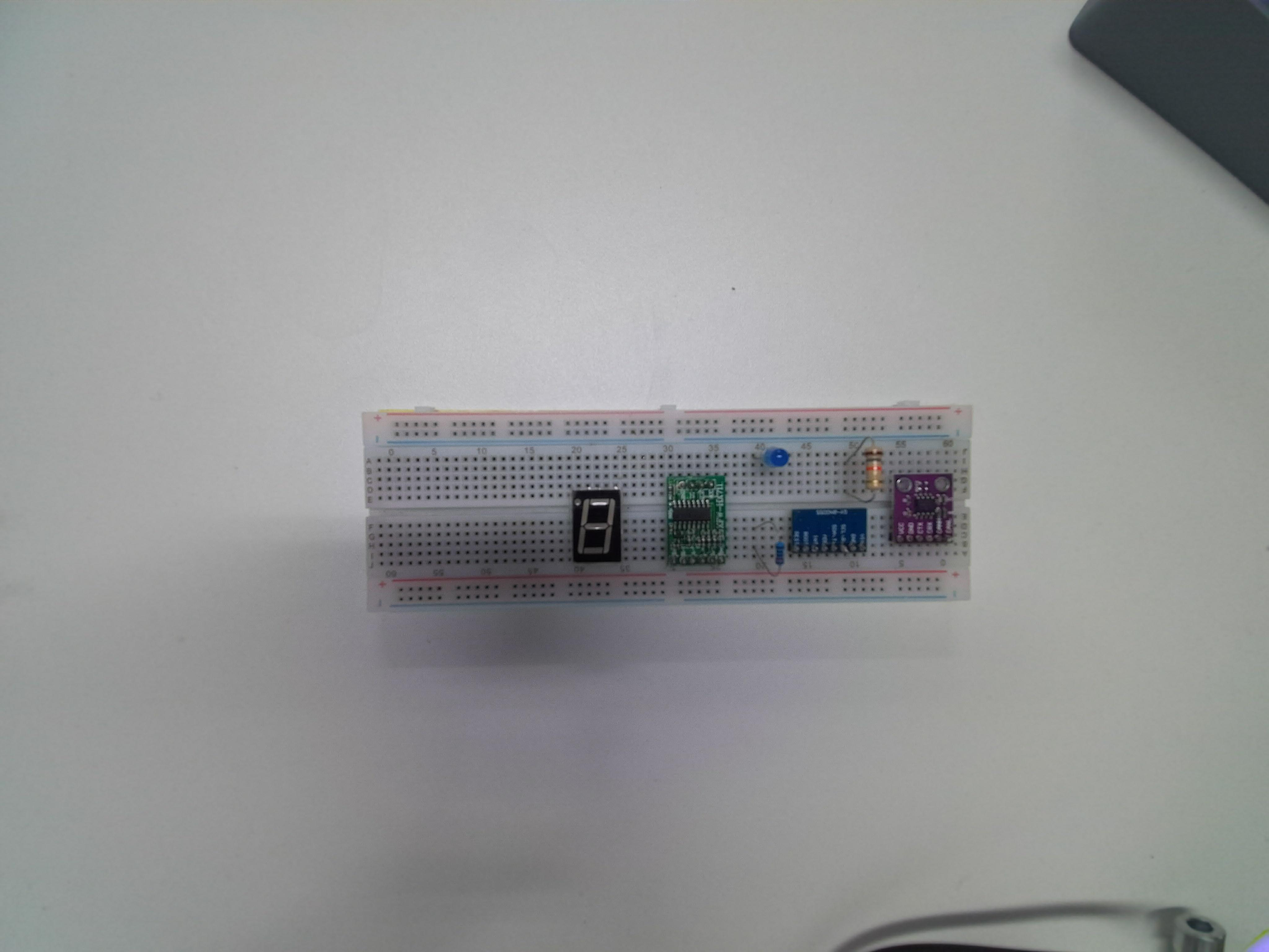base: (360, 408, 975, 612)
blue-board: (789, 506, 868, 558)
blue-led: (763, 447, 790, 469)
digit-board: (570, 488, 623, 564)
green-board: (664, 473, 730, 568)
purple-board: (888, 472, 954, 546)
resistor-big: (863, 445, 884, 494)
resistor-small: (774, 540, 786, 566)
